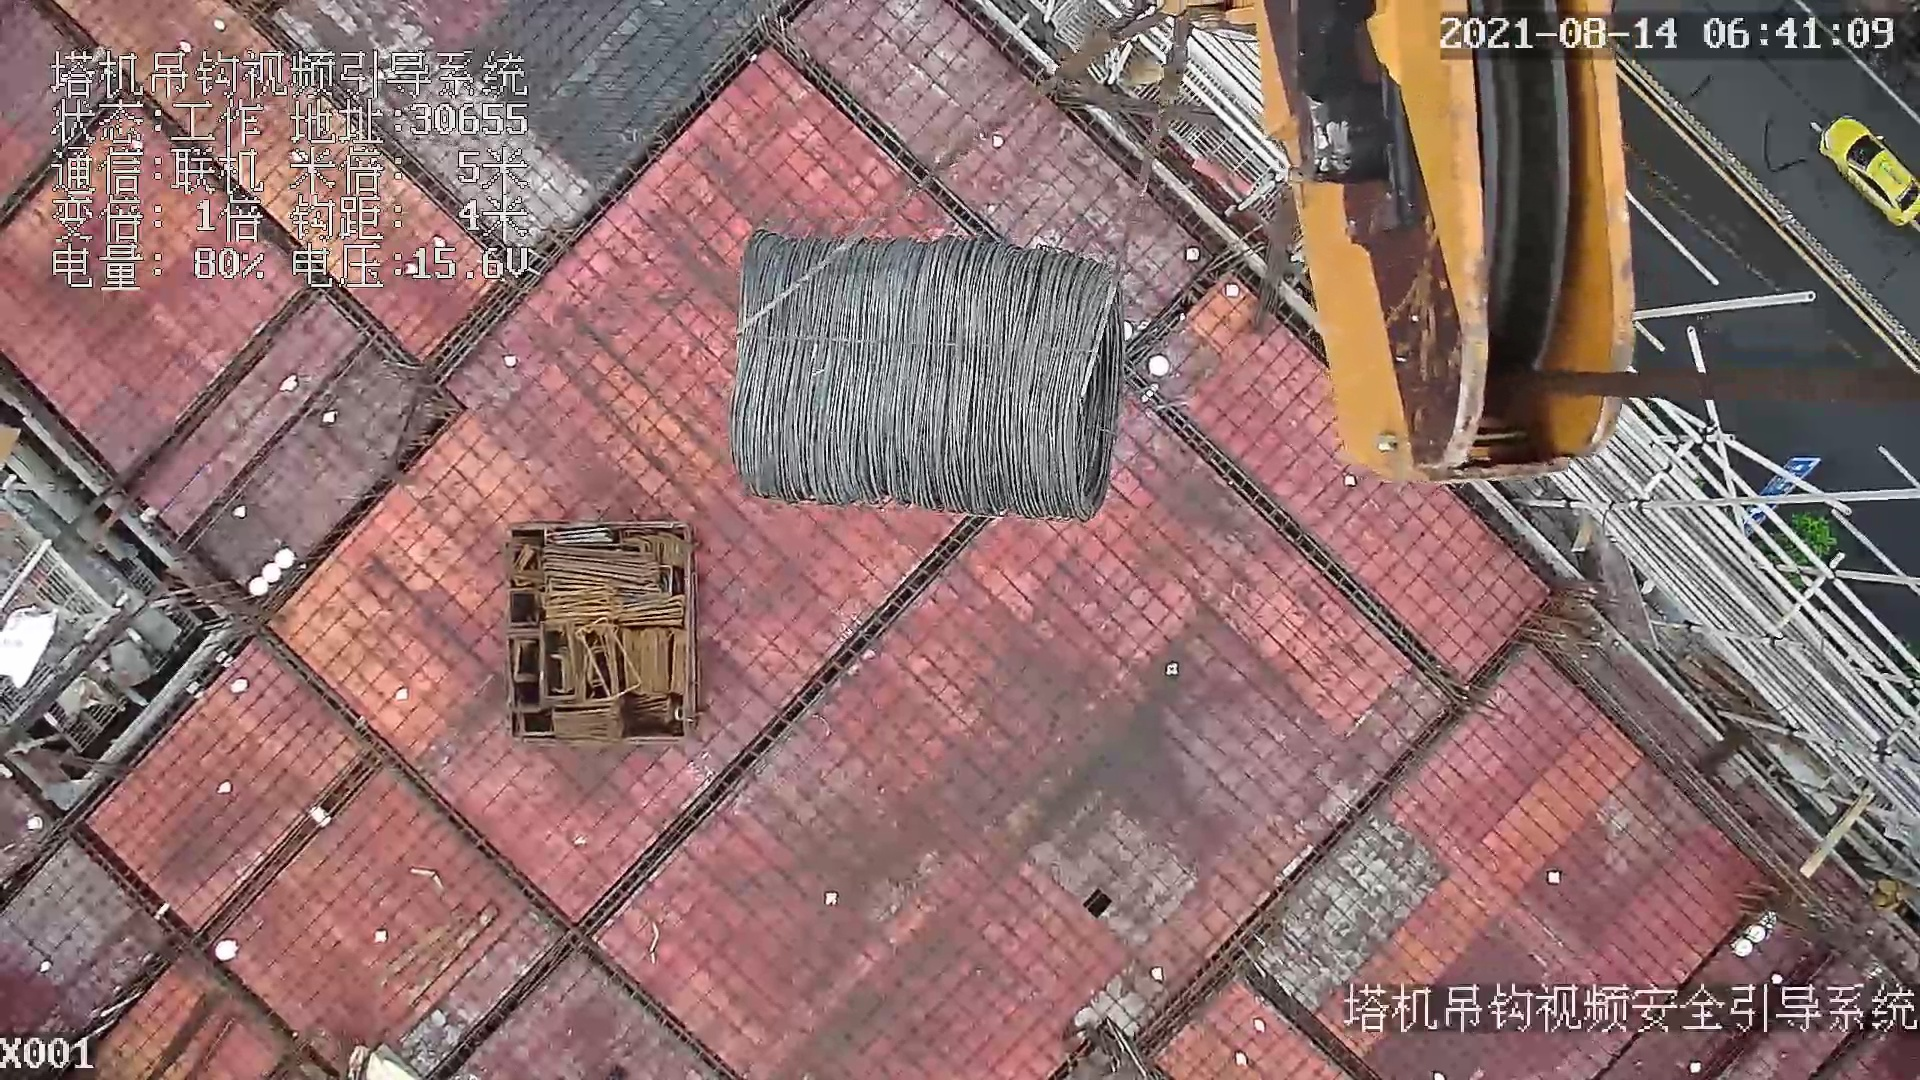hook: (1193, 1, 1640, 492)
